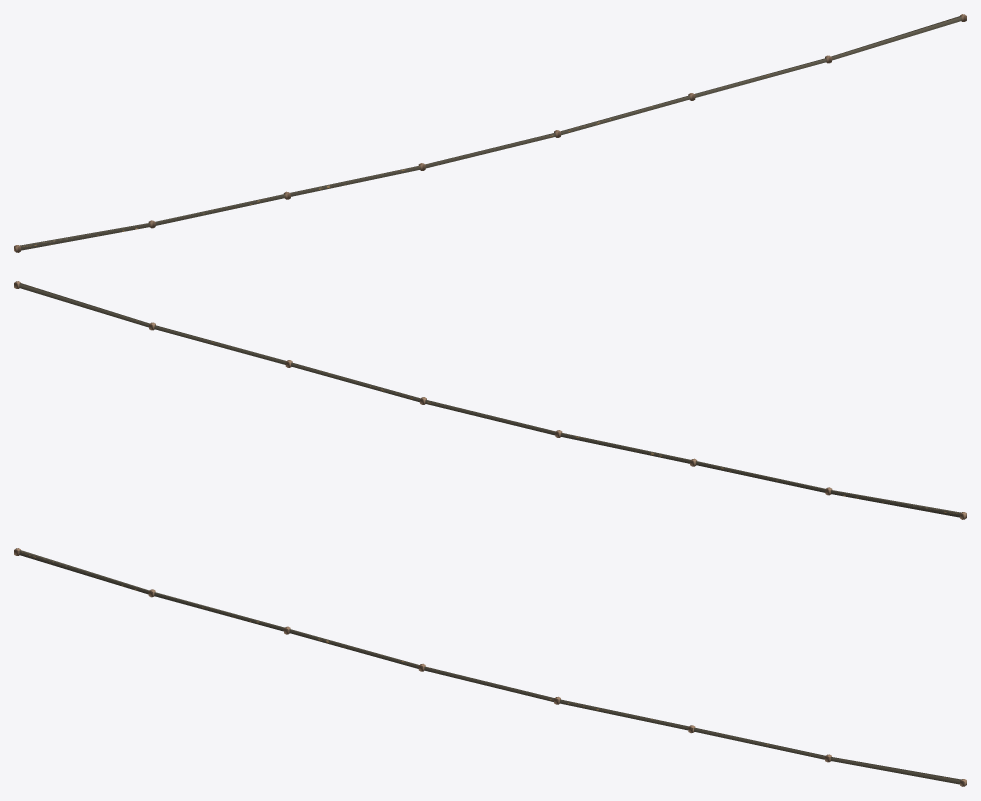
File: shop_cablei01a.fbx
The picture shows the model from 3 angles, top to bottom: view 1: azimuth 30°, elevation 25°; view 2: azimuth 150°, elevation 25°; view 3: azimuth 330°, elevation 25°; orthographic projection.
Visible parts, largest first — view 1: shopcable01a; view 2: shopcable01a; view 3: shopcable01a.
Boxes of the visible parts, x1,y1,x2,y2 form: shopcable01a: (14, 14, 966, 252); shopcable01a: (14, 281, 966, 519); shopcable01a: (14, 548, 966, 786).
Size of the model in its own units: 344 by 8.06 by 1.44.
